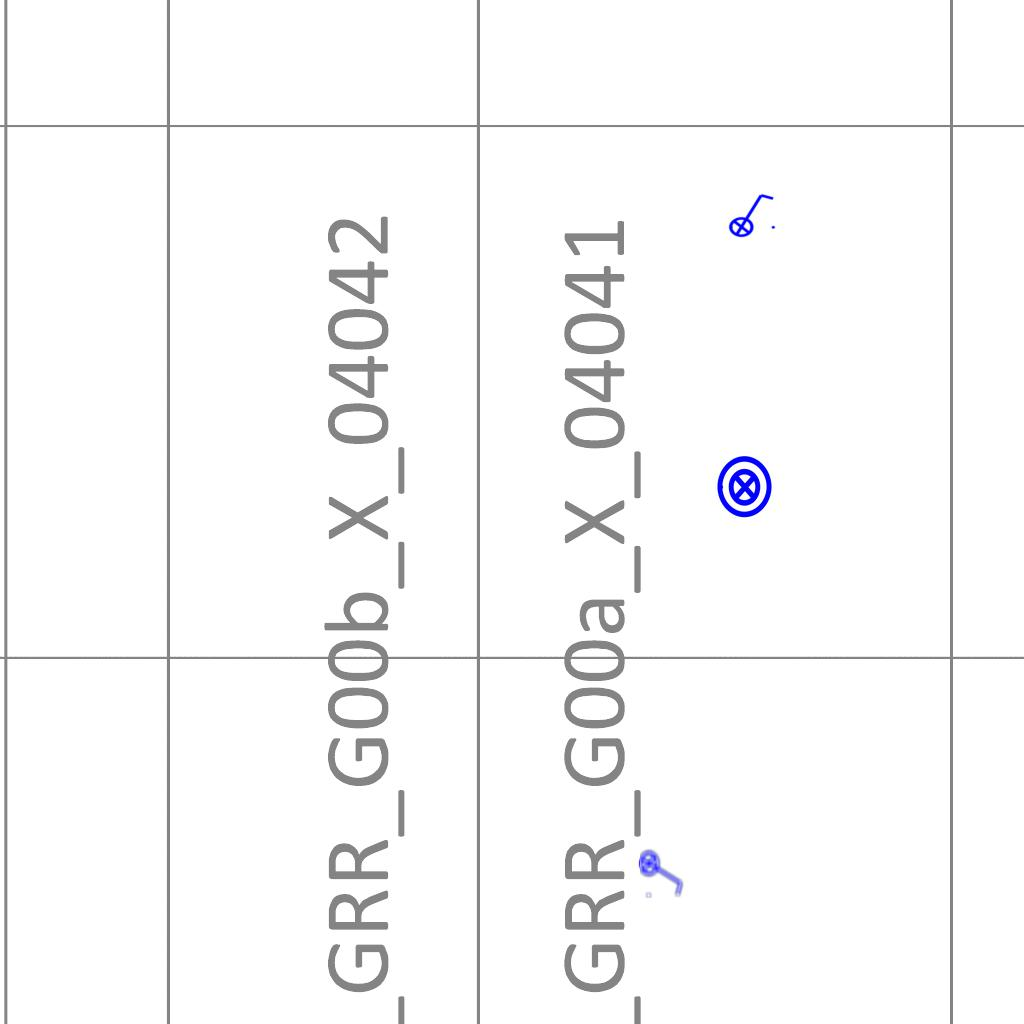Ausschalter_beleuchtet: (722, 190, 778, 238), (638, 844, 686, 900)
Taster_beleuchtet: (712, 454, 778, 520)
